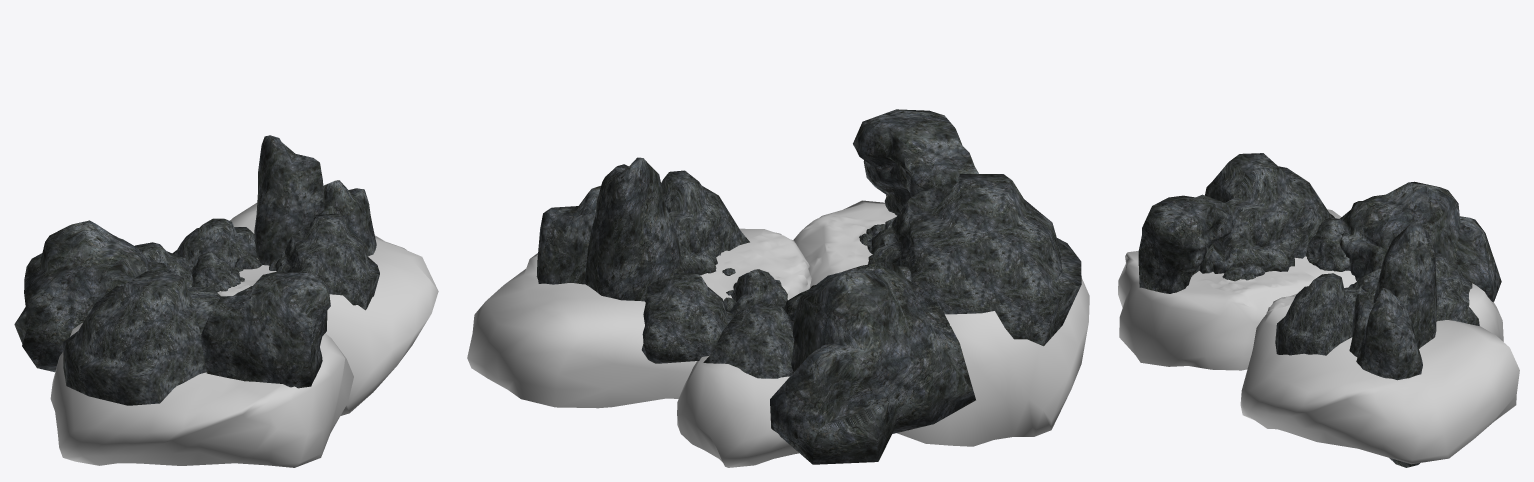
The picture shows the model from 3 angles, left to right: view 1: azimuth 30°, elevation 25°; view 2: azimuth 150°, elevation 25°; view 3: azimuth 270°, elevation 25°; orthographic projection. The views are drawn at different scales.
Visible parts, largest first — view 1: plane_Mesh_002, plane_Mesh_001; view 2: plane_Mesh_002, plane_Mesh_001; view 3: plane_Mesh_002, plane_Mesh_001.
Part boxes in pixels (left/top/right/bottom): plane_Mesh_002: left=14, top=135, right=379, bottom=405; plane_Mesh_001: left=50, top=203, right=438, bottom=467; plane_Mesh_002: left=536, top=109, right=1081, bottom=464; plane_Mesh_001: left=467, top=200, right=1089, bottom=467; plane_Mesh_002: left=1138, top=153, right=1501, bottom=467; plane_Mesh_001: left=1118, top=209, right=1519, bottom=464.
Bounding box in the file's own units: 4982 × 4324 × 4442.
